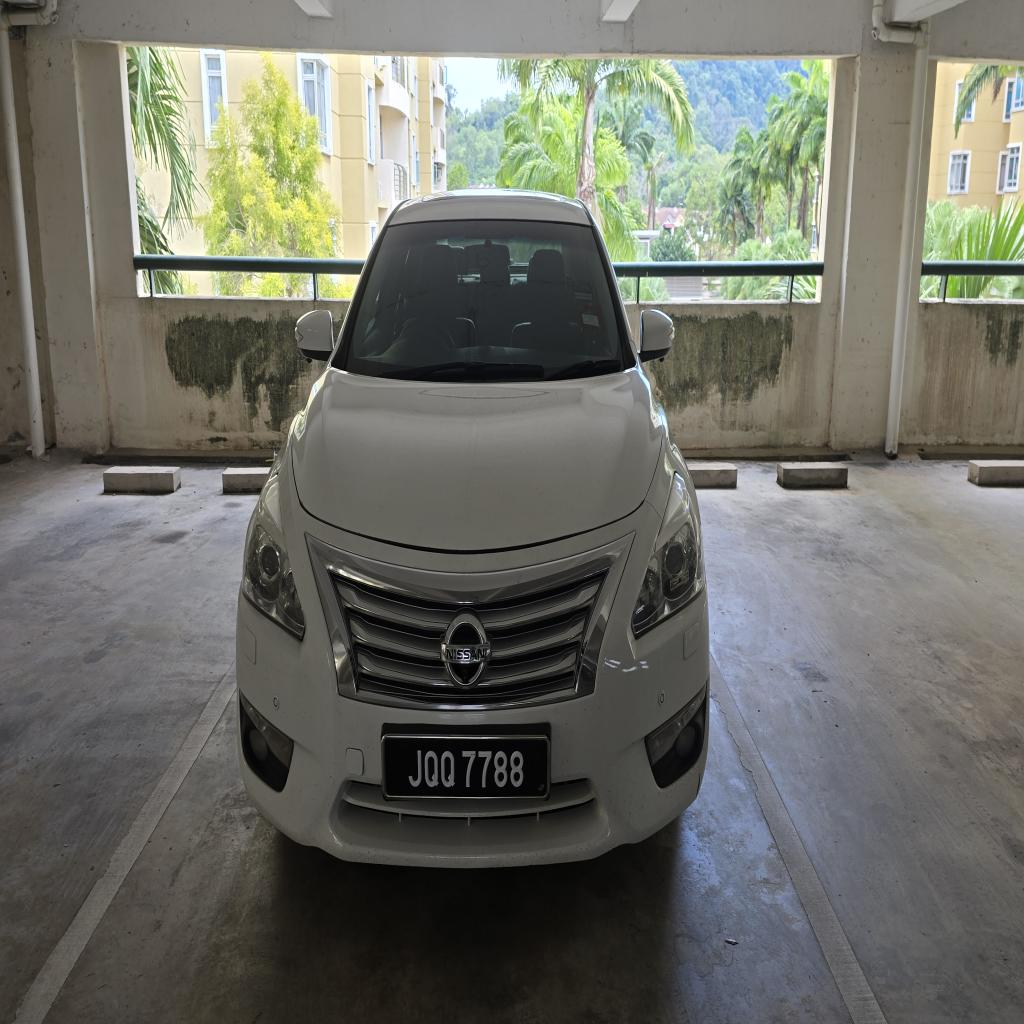car: (237, 191, 708, 866)
car plate: (382, 734, 549, 798)
